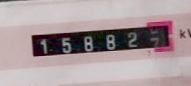1: (38, 37, 49, 55)
2: (126, 30, 137, 47)
5: (59, 36, 72, 53)
7: (148, 35, 160, 48)
8: (82, 34, 94, 51), (105, 33, 116, 49)
screen: (23, 17, 180, 62)
